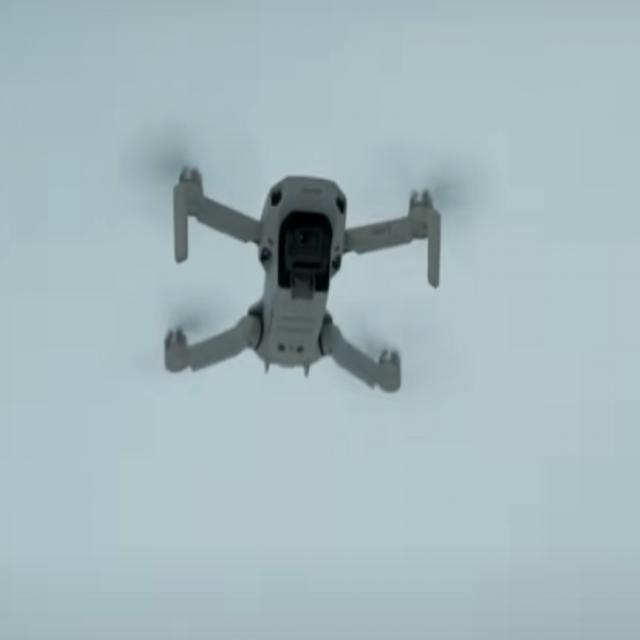drone: (111, 127, 502, 410)
